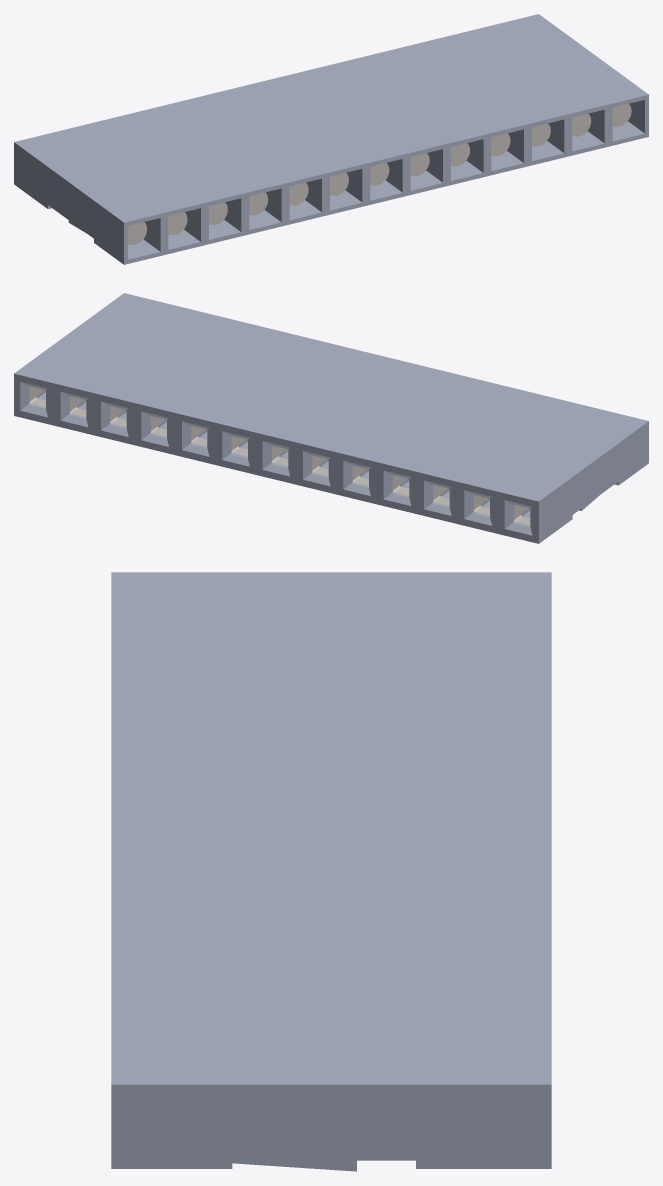
3 renders of one model, top to bottom at view 1: azimuth 30°, elevation 25°; view 2: azimuth 150°, elevation 25°; view 3: azimuth 270°, elevation 25°, orthographic. The views are drawn at different scales.
Visible parts, largest first — view 1: DS1071-1x13; view 2: DS1071-1x13; view 3: DS1071-1x13.
Part boxes in pixels (box(x1,y1,x2,y2)): DS1071-1x13: box(14, 14, 648, 264); DS1071-1x13: box(14, 293, 648, 543); DS1071-1x13: box(111, 572, 551, 1171).
Bounding box in the file's own units: 0.015 × 0.00126 × 0.00544.
